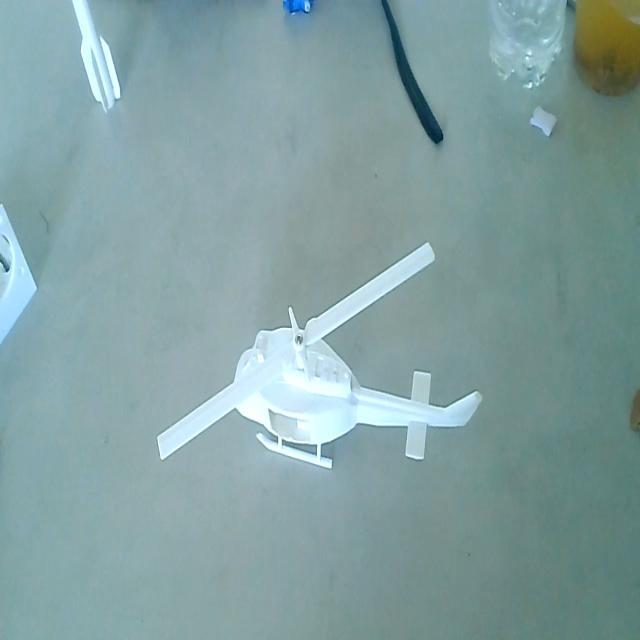Helicopter: (154, 239, 485, 485)
Rocket: (72, 0, 122, 127)
